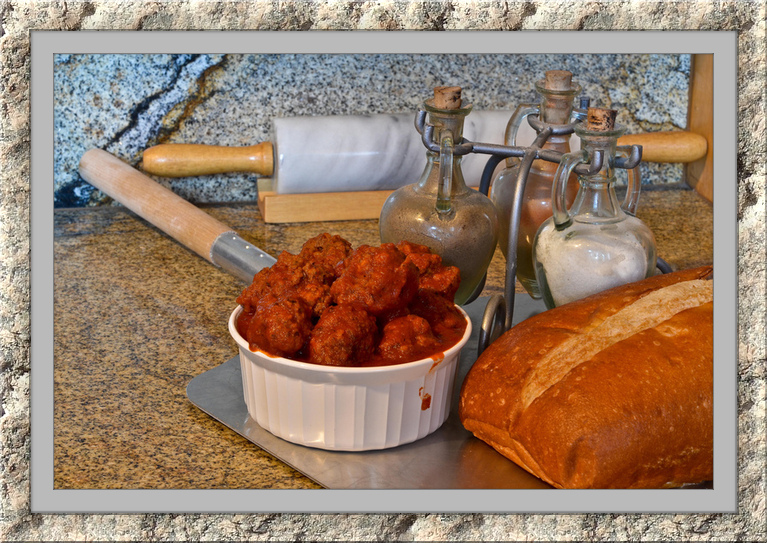meatballs: (250, 246, 455, 351)
slice of bread: (474, 288, 710, 481)
